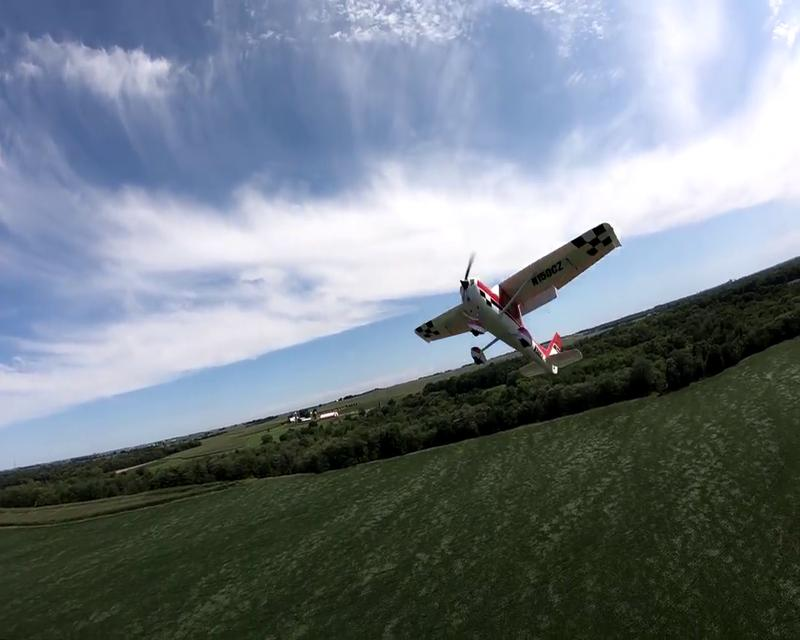UAV: (414, 222, 622, 380)
